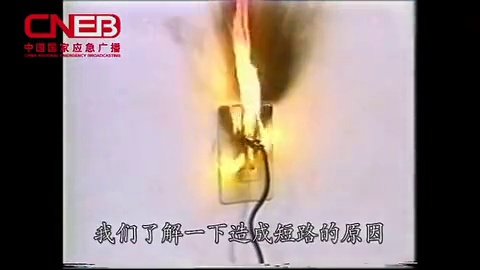fire: (223, 1, 268, 177)
